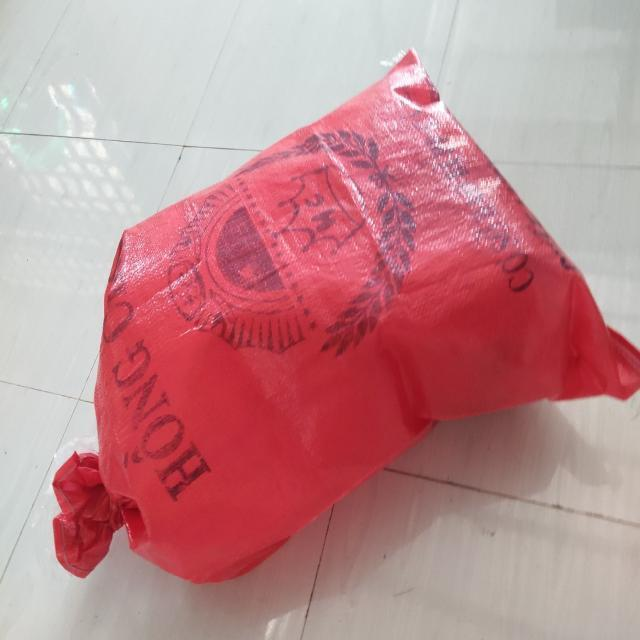gunny_bag: (52, 50, 640, 584)
